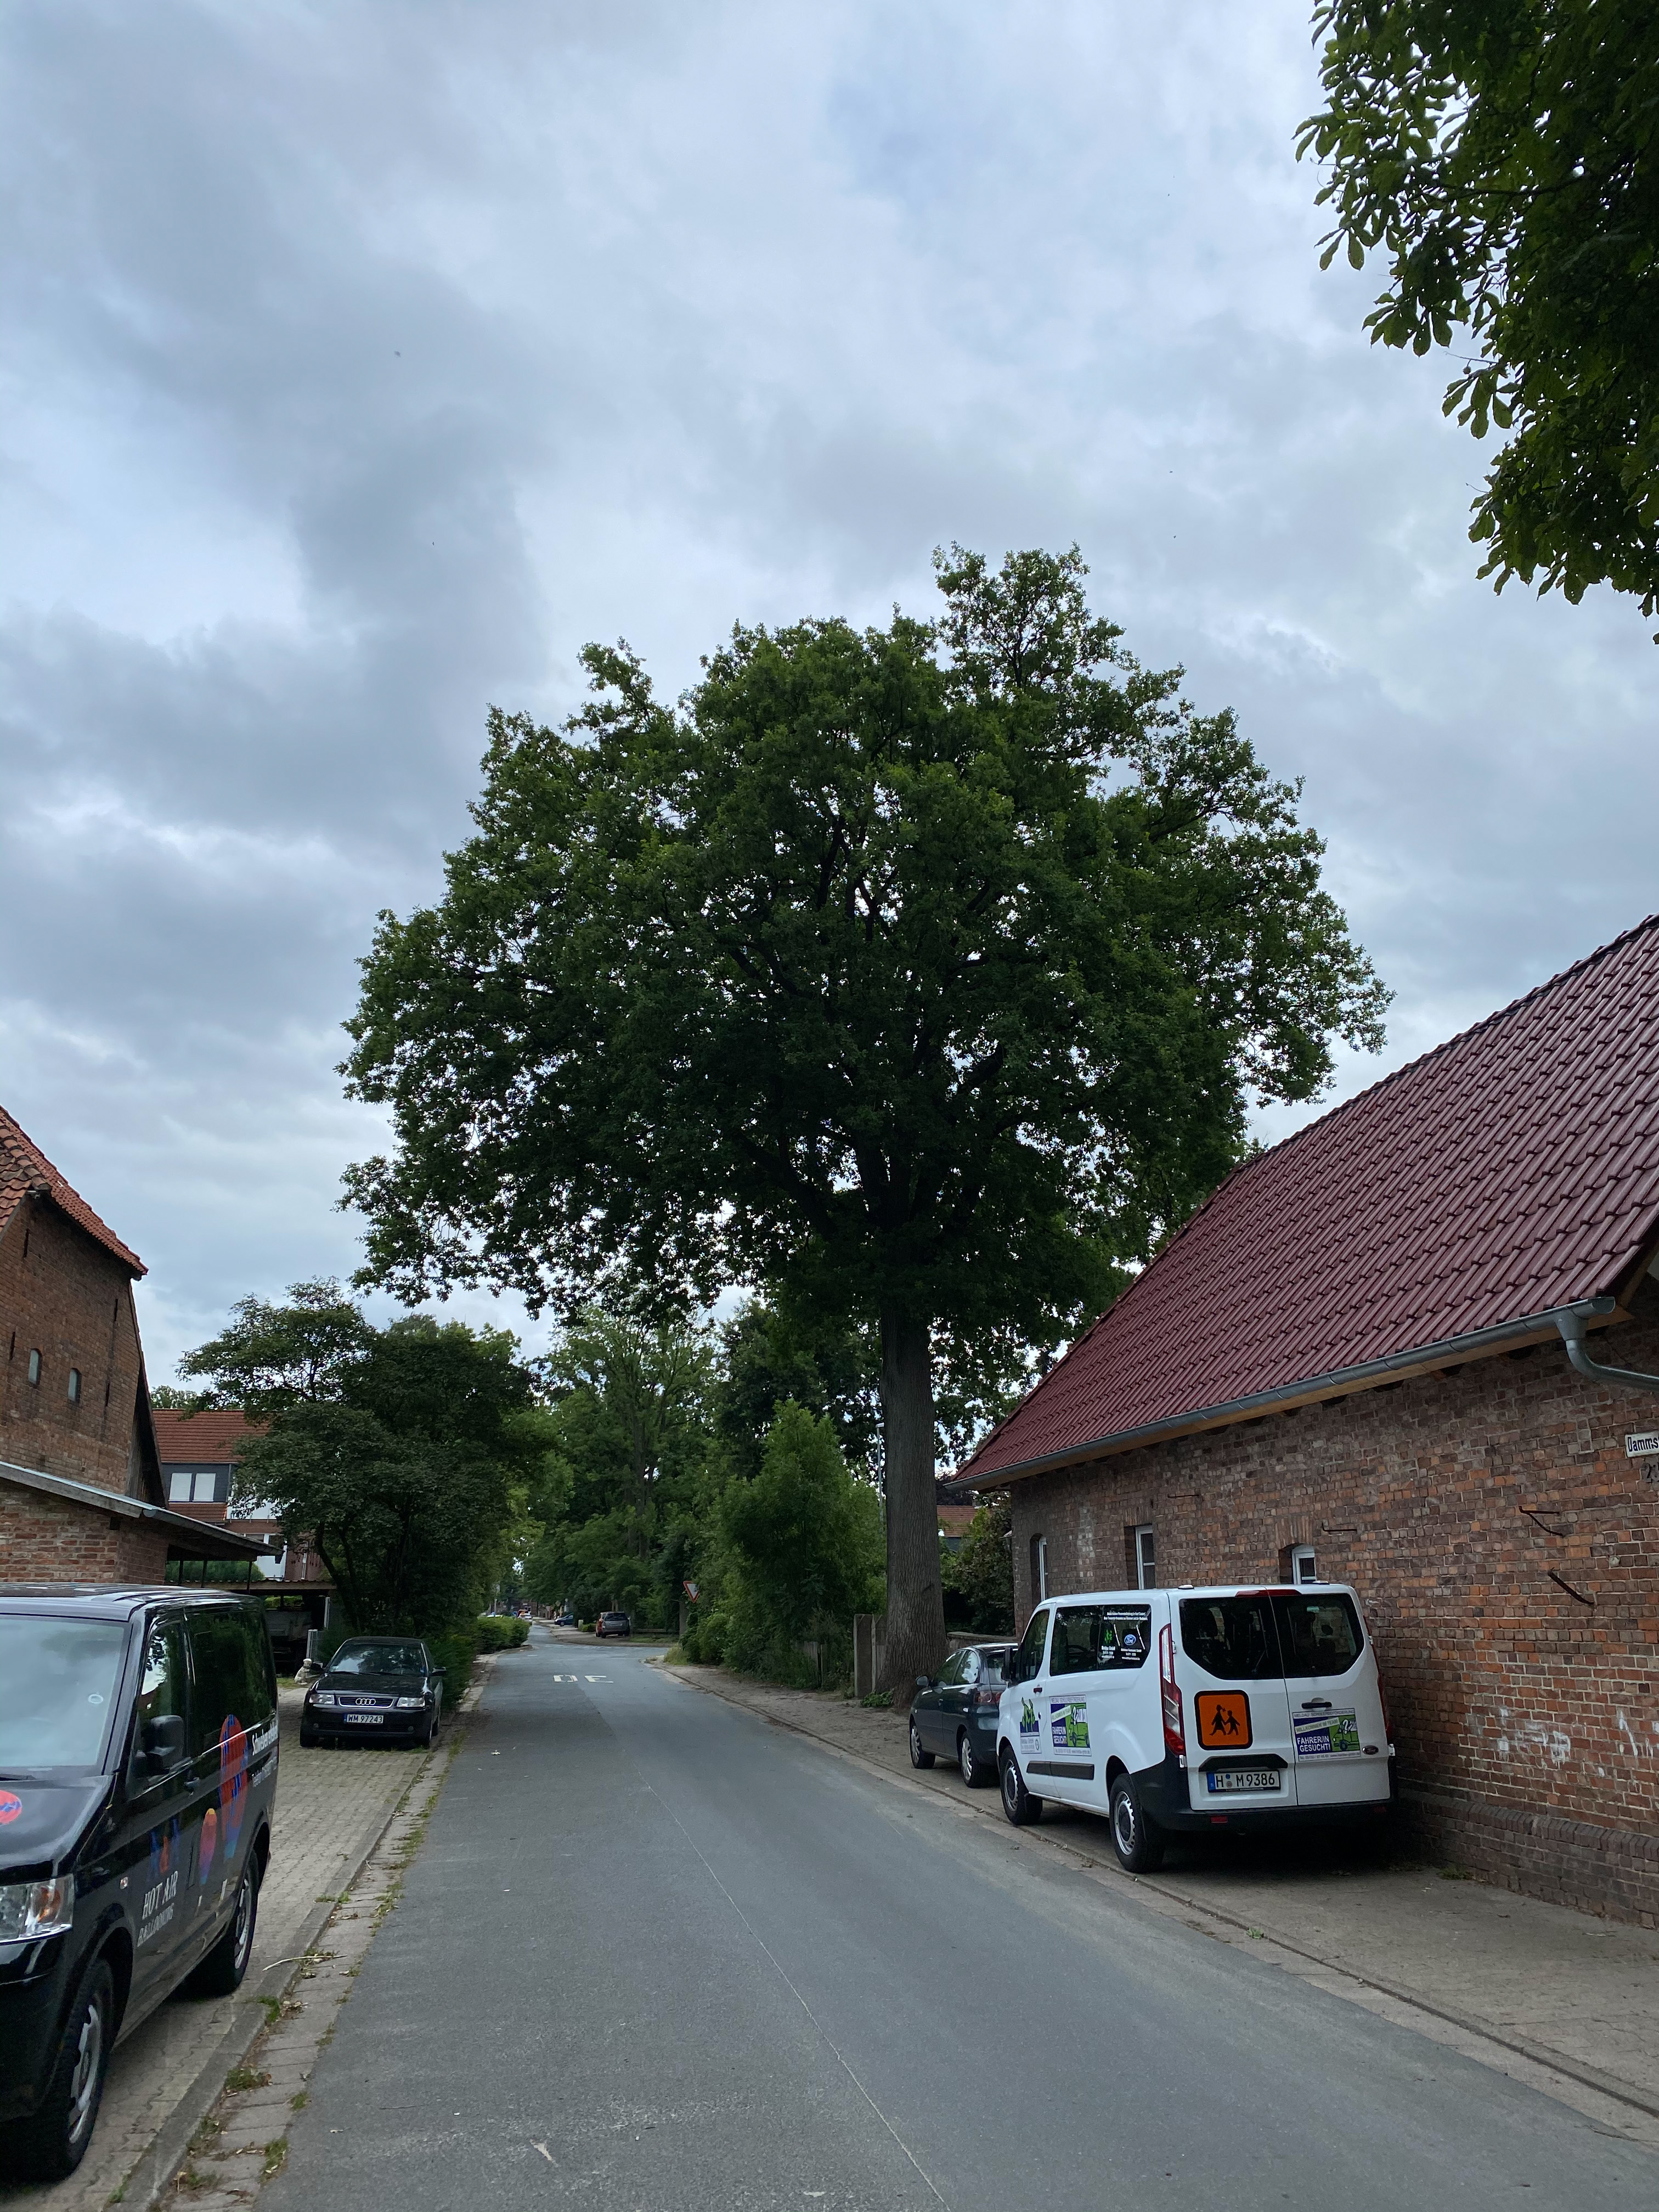tree: (333, 538, 1396, 1703), (1291, 0, 1659, 644), (171, 1273, 547, 1637), (532, 1303, 723, 1629), (532, 1298, 725, 1615), (695, 1395, 887, 1639), (701, 1294, 882, 1489), (150, 1385, 240, 1411)
